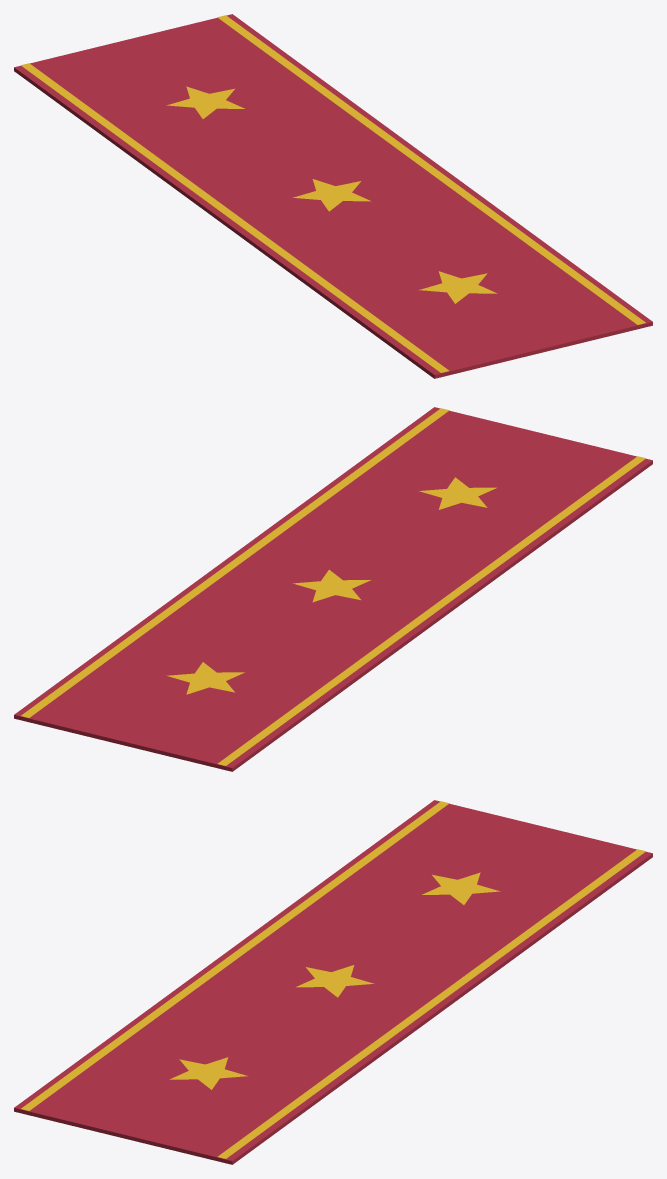
File: CM_Event_RedCarpet.fbx
The picture shows the model from 3 angles, top to bottom: view 1: azimuth 30°, elevation 25°; view 2: azimuth 150°, elevation 25°; view 3: azimuth 330°, elevation 25°; orthographic projection.
Parts seen in each view (by area): view 1: Body; view 2: Body; view 3: Body.
Boxes of the visible parts, <box> form: Body: <box>14,14,652,378</box>; Body: <box>14,407,652,771</box>; Body: <box>14,800,652,1164</box>.
Size of the model in its own units: 6 by 20 by 0.112.
Materials: 1 (1 with a texture image).
